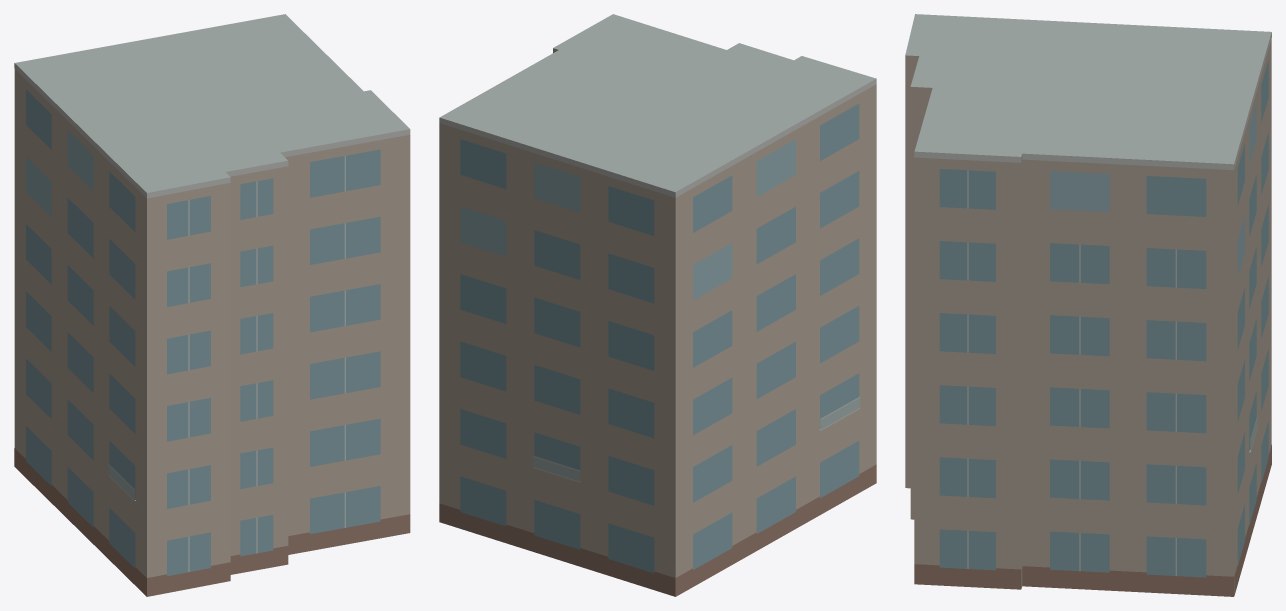
File: survey-upis-32872965.glb
The picture shows the model from 3 angles, left to right: view 1: azimuth 30°, elevation 25°; view 2: azimuth 150°, elevation 25°; view 3: azimuth 270°, elevation 25°; orthographic projection. The views are drawn at different scales.
Visible parts, largest first — view 1: survey-upis-32872965.tmp; view 2: survey-upis-32872965.tmp; view 3: survey-upis-32872965.tmp.
Boxes of the visible parts, x1,y1,x2,y2 form: survey-upis-32872965.tmp: [14, 14, 410, 596]; survey-upis-32872965.tmp: [439, 14, 876, 596]; survey-upis-32872965.tmp: [905, 14, 1271, 596].
Size of the model in its own units: 13.27 by 17.8 by 13.68.
